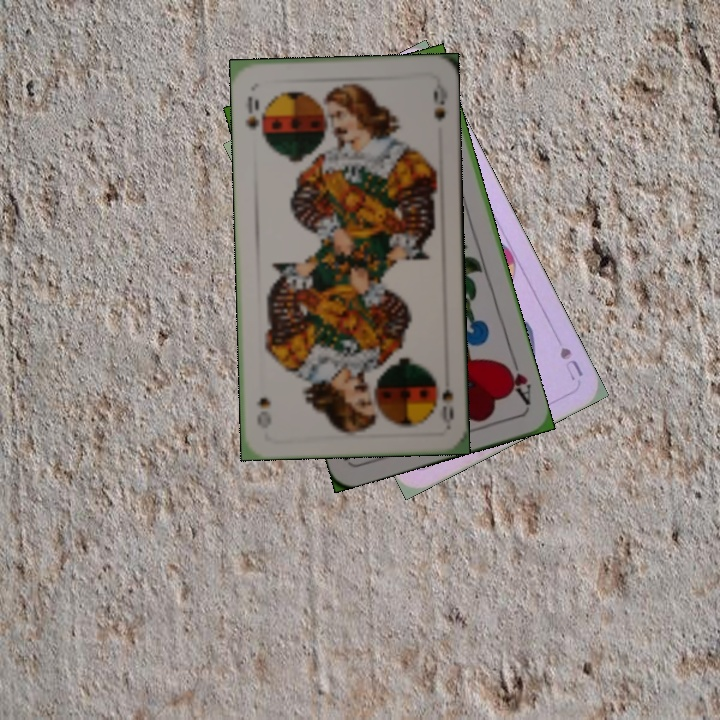HA: (499, 351, 534, 408)
SO: (241, 92, 266, 141), (438, 385, 456, 428)
SU: (555, 343, 586, 383)
